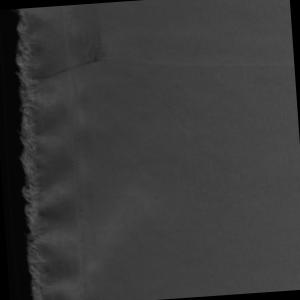Damage: (1, 8, 63, 300)
Stain: (21, 34, 115, 91)
